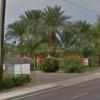Palm tree: (9, 3, 64, 51)
